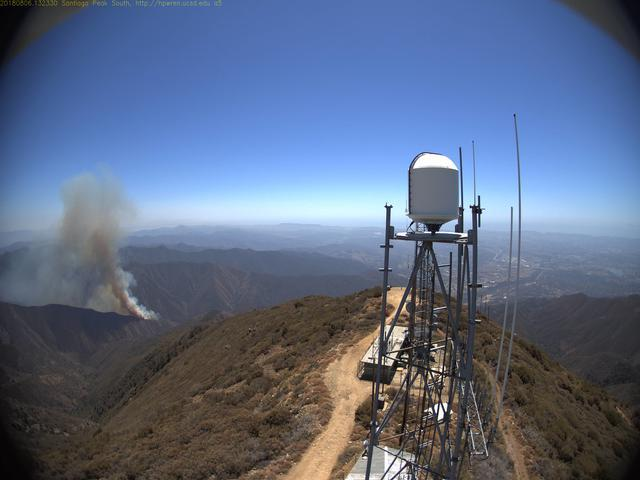smoke: (2, 171, 161, 326)
